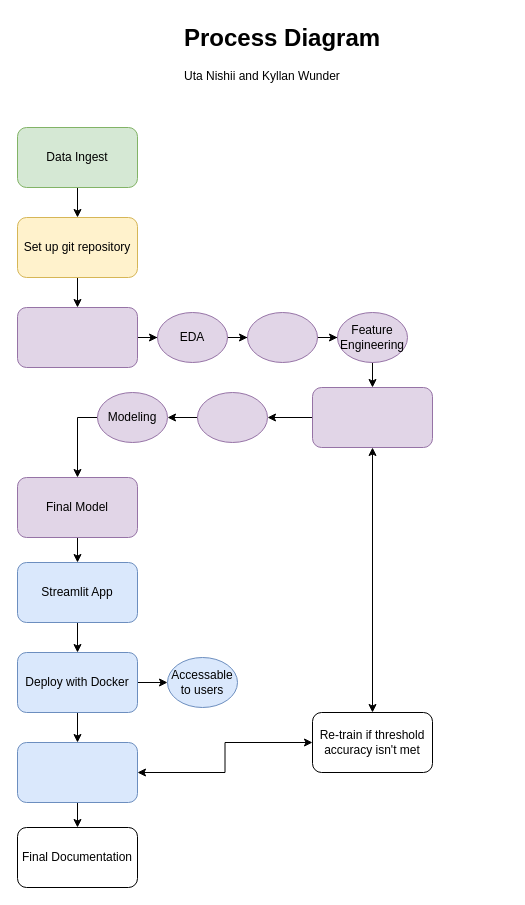
This 525x905 diagram has some shape labels left out. Here are the shapes that lost their labels. From the top down, the centre of each, then its label:
At (x=77, y=337): "Data Pre-Processing".
At (x=282, y=337): "Data Cleaning".
At (x=232, y=417): "Production Model".
At (x=372, y=417): "Model Training".
At (x=77, y=772): "Model Monitoring Dashboard (MLFlow)".
